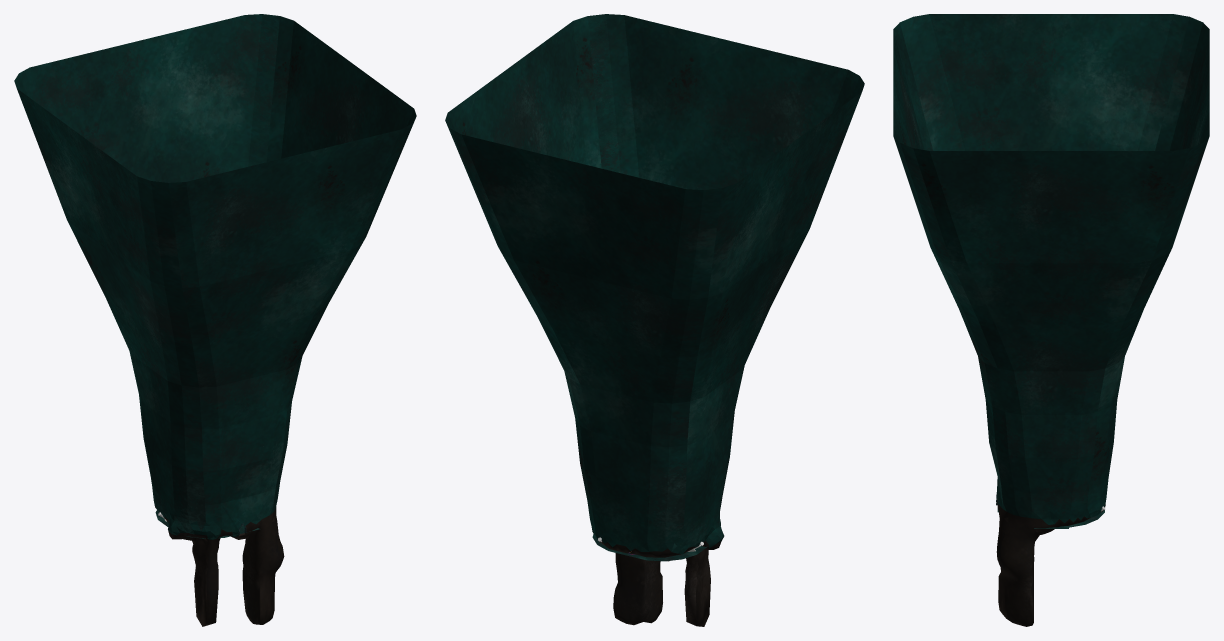
File: MOD_L2_Room1.fbx
3 views of the same model, side by side, from view 1: azimuth 30°, elevation 25°; view 2: azimuth 150°, elevation 25°; view 3: azimuth 270°, elevation 25° (orthographic). The views are drawn at different scales.
Visible parts, largest first — view 1: Cube.009; view 2: Cube.009; view 3: Cube.009.
Boxes of the visible parts, left/top/right/bottom form: Cube.009: left=14, top=14, right=416, bottom=626; Cube.009: left=445, top=14, right=864, bottom=626; Cube.009: left=893, top=14, right=1209, bottom=626.
Size of the model in its own units: 679 by 1208 by 664.
